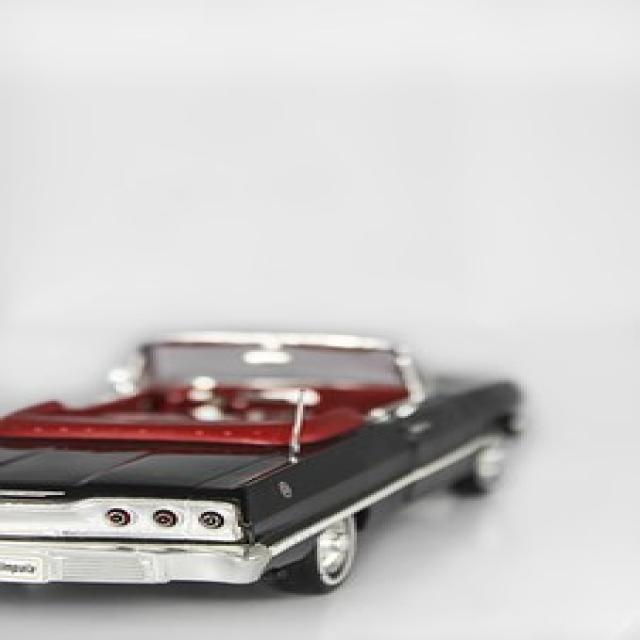Car: (0, 327, 524, 593)
